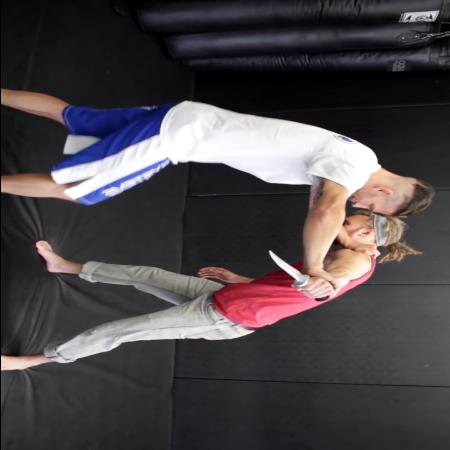long weapon: (260, 246, 336, 304)
